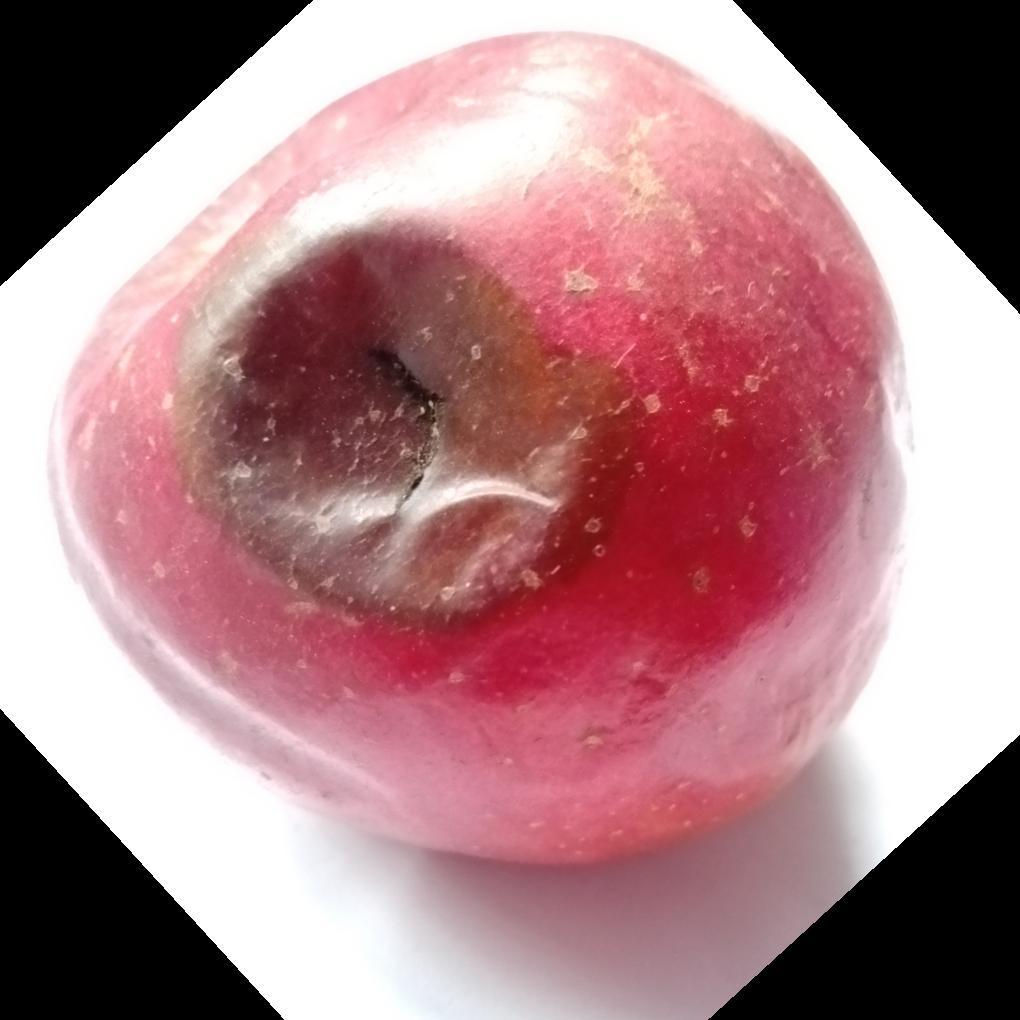FreshOrange: (35, 0, 921, 874)
